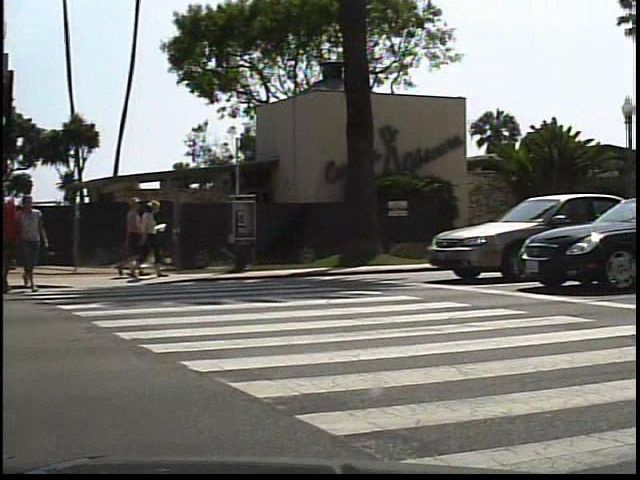person: (23, 194, 60, 295)
